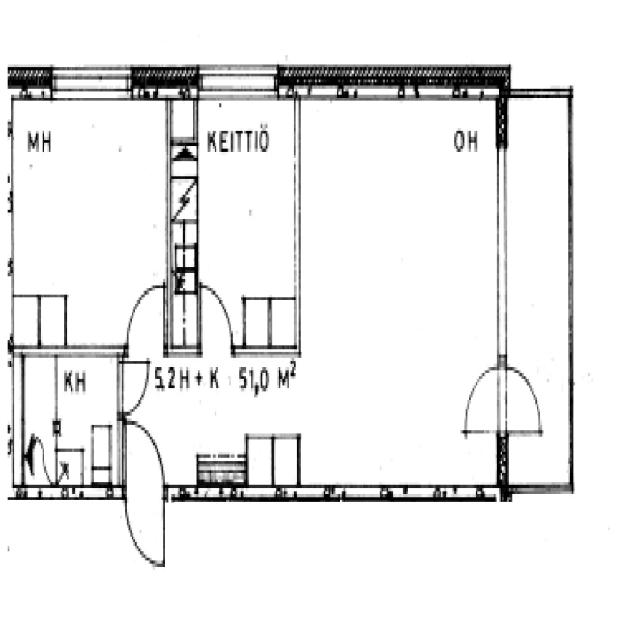door: (124, 420, 166, 565), (124, 280, 168, 351), (501, 363, 542, 436), (464, 360, 503, 431), (115, 355, 151, 418), (122, 418, 163, 472), (198, 280, 232, 344)
window: (196, 60, 282, 100), (51, 64, 134, 100), (349, 78, 403, 107)
zone: (8, 96, 168, 346), (173, 89, 301, 316), (14, 349, 121, 492), (124, 436, 164, 568), (239, 298, 300, 353), (251, 436, 301, 493)
